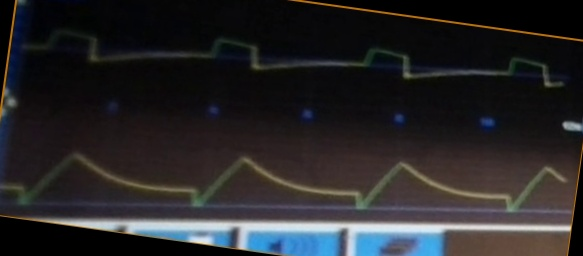Flow: (29, 27, 559, 104)
Leakage Volume: (2, 136, 563, 218)
